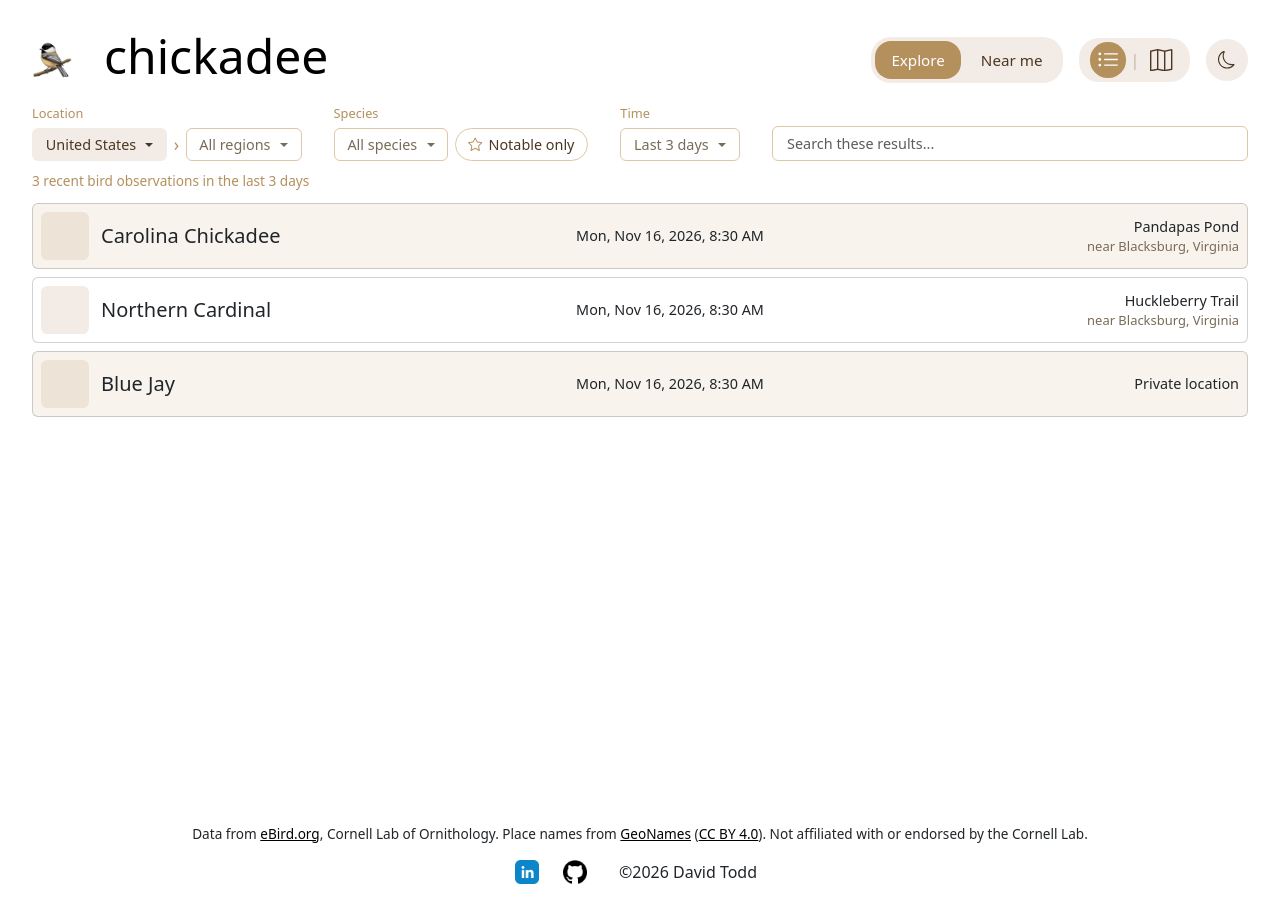
Test case: Explore page › filters a dropdown's list by typing, saying when nothing matches
Click the button "All regions": (244, 145) [186,128,302,161]
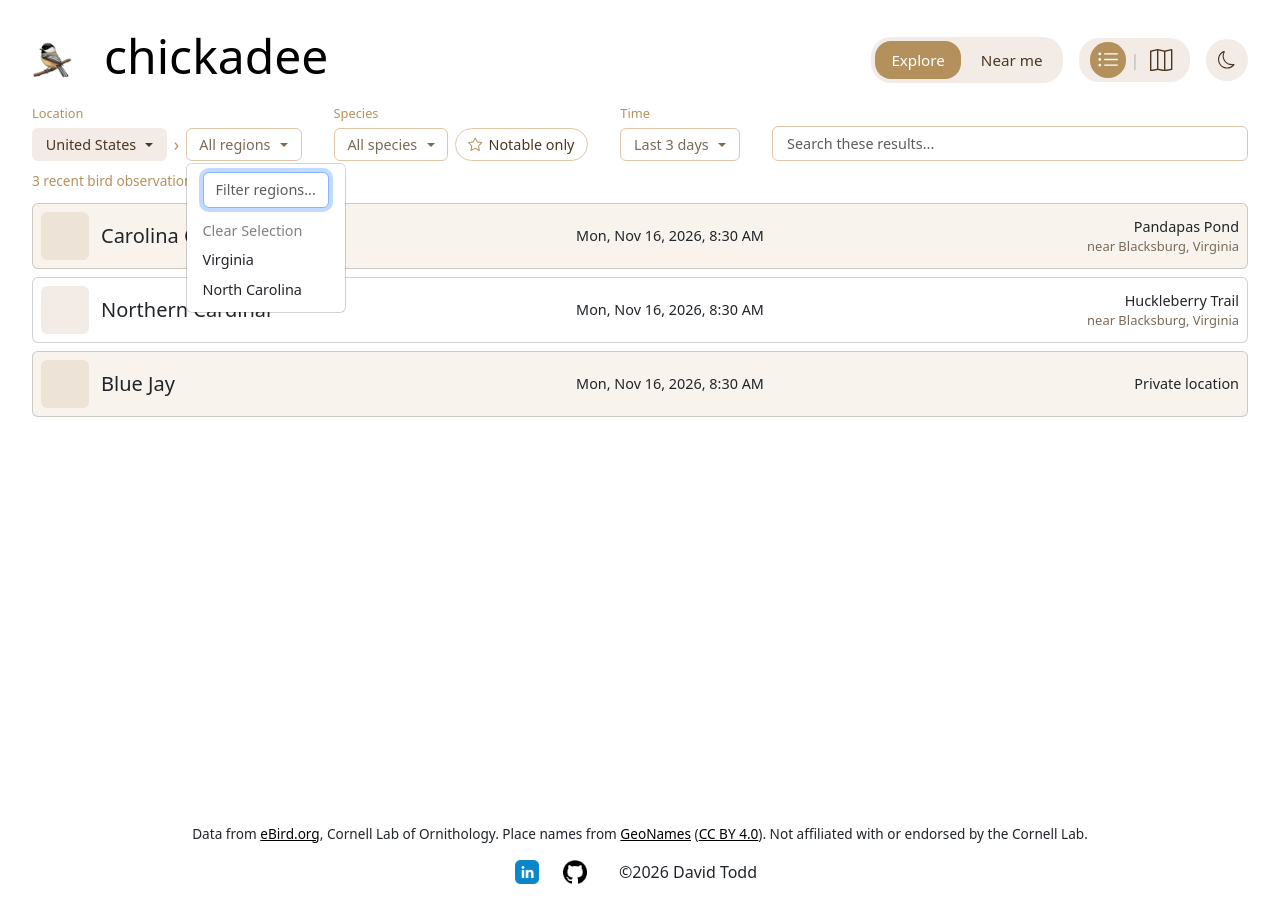
In the field with placeholder "Filter regions...": (266, 190) [202,172,328,208], type "north"
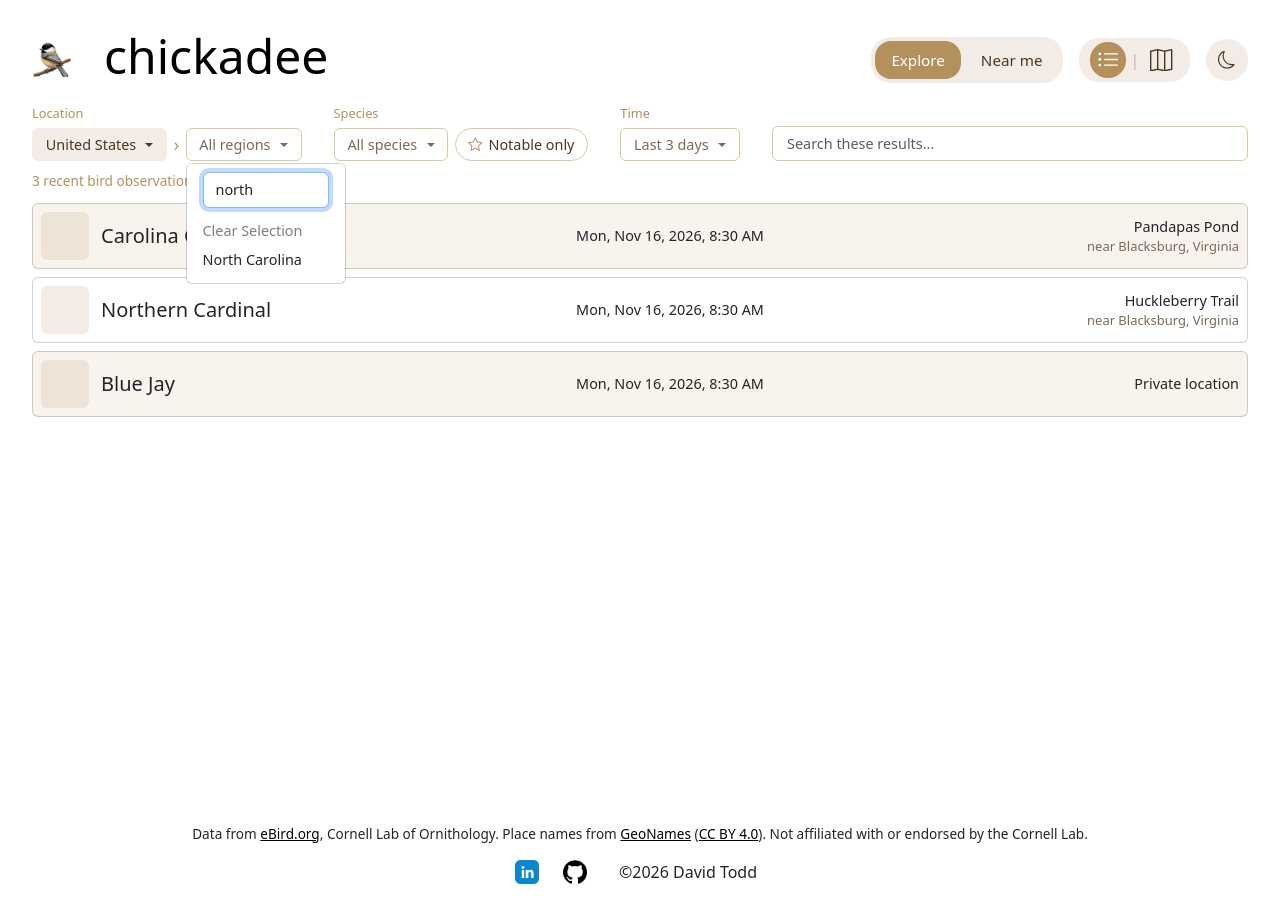
Now the button "North Carolina" is shown, box [202,250,302,269]
Replace the text in the field with placeholder "Filter regions..." with "zzz": (266, 190) [202,172,328,208]
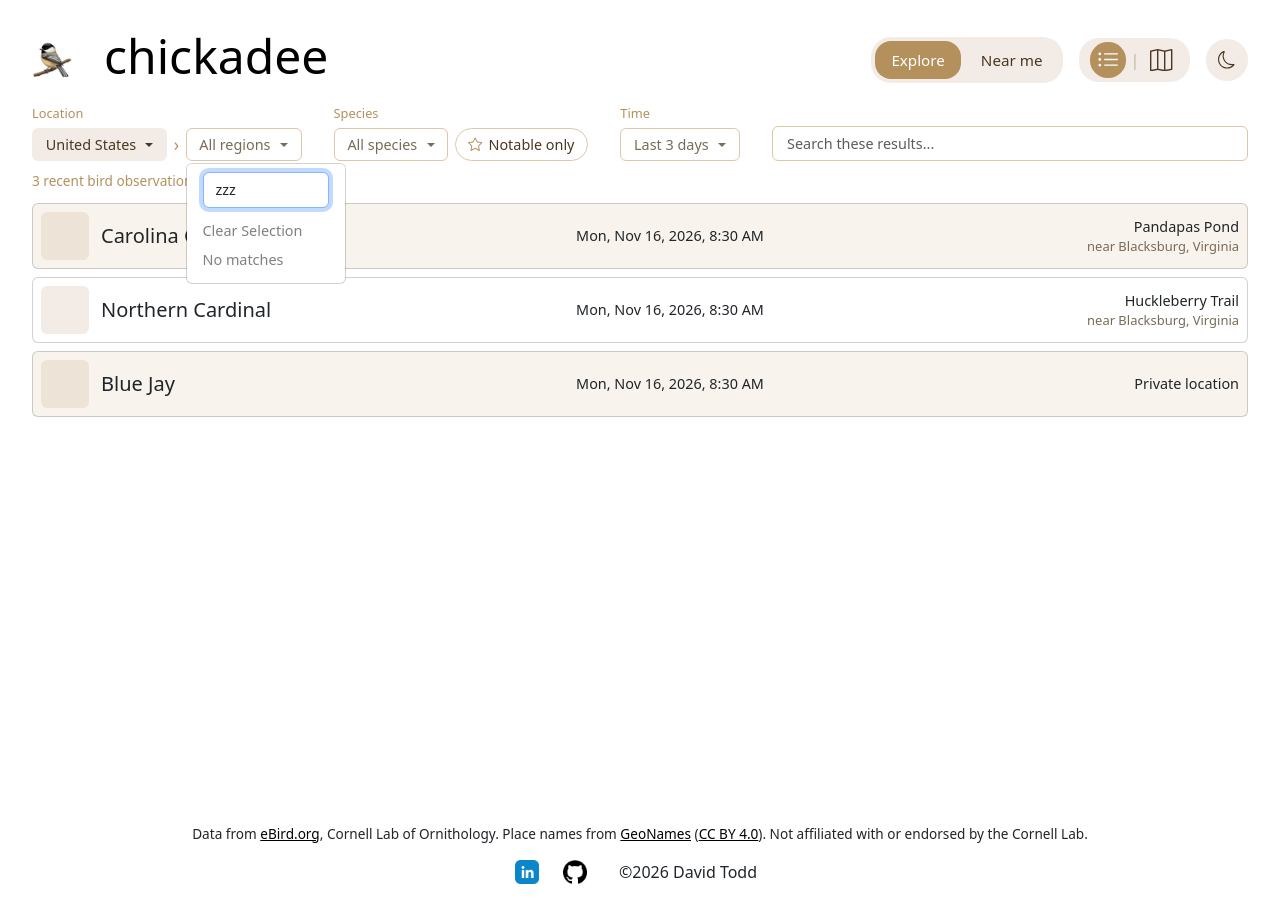
Now the text "No matches" is shown, box [202,250,283,269]
